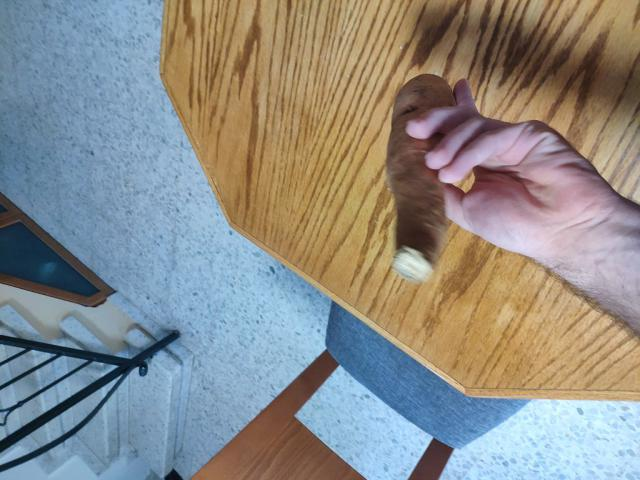sweet_potato: (384, 71, 468, 283)
